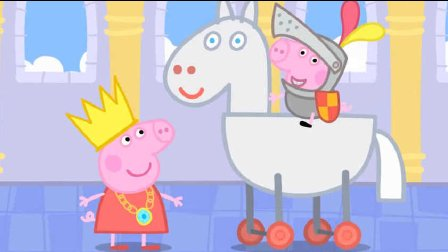Peppa: (68, 81, 186, 252)
